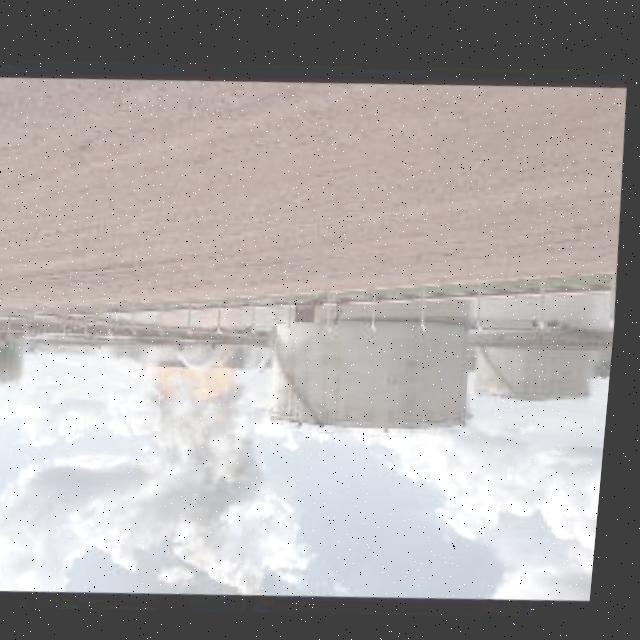Fire: (151, 387, 278, 525), (156, 349, 243, 406)
Smoke: (150, 356, 248, 417)
